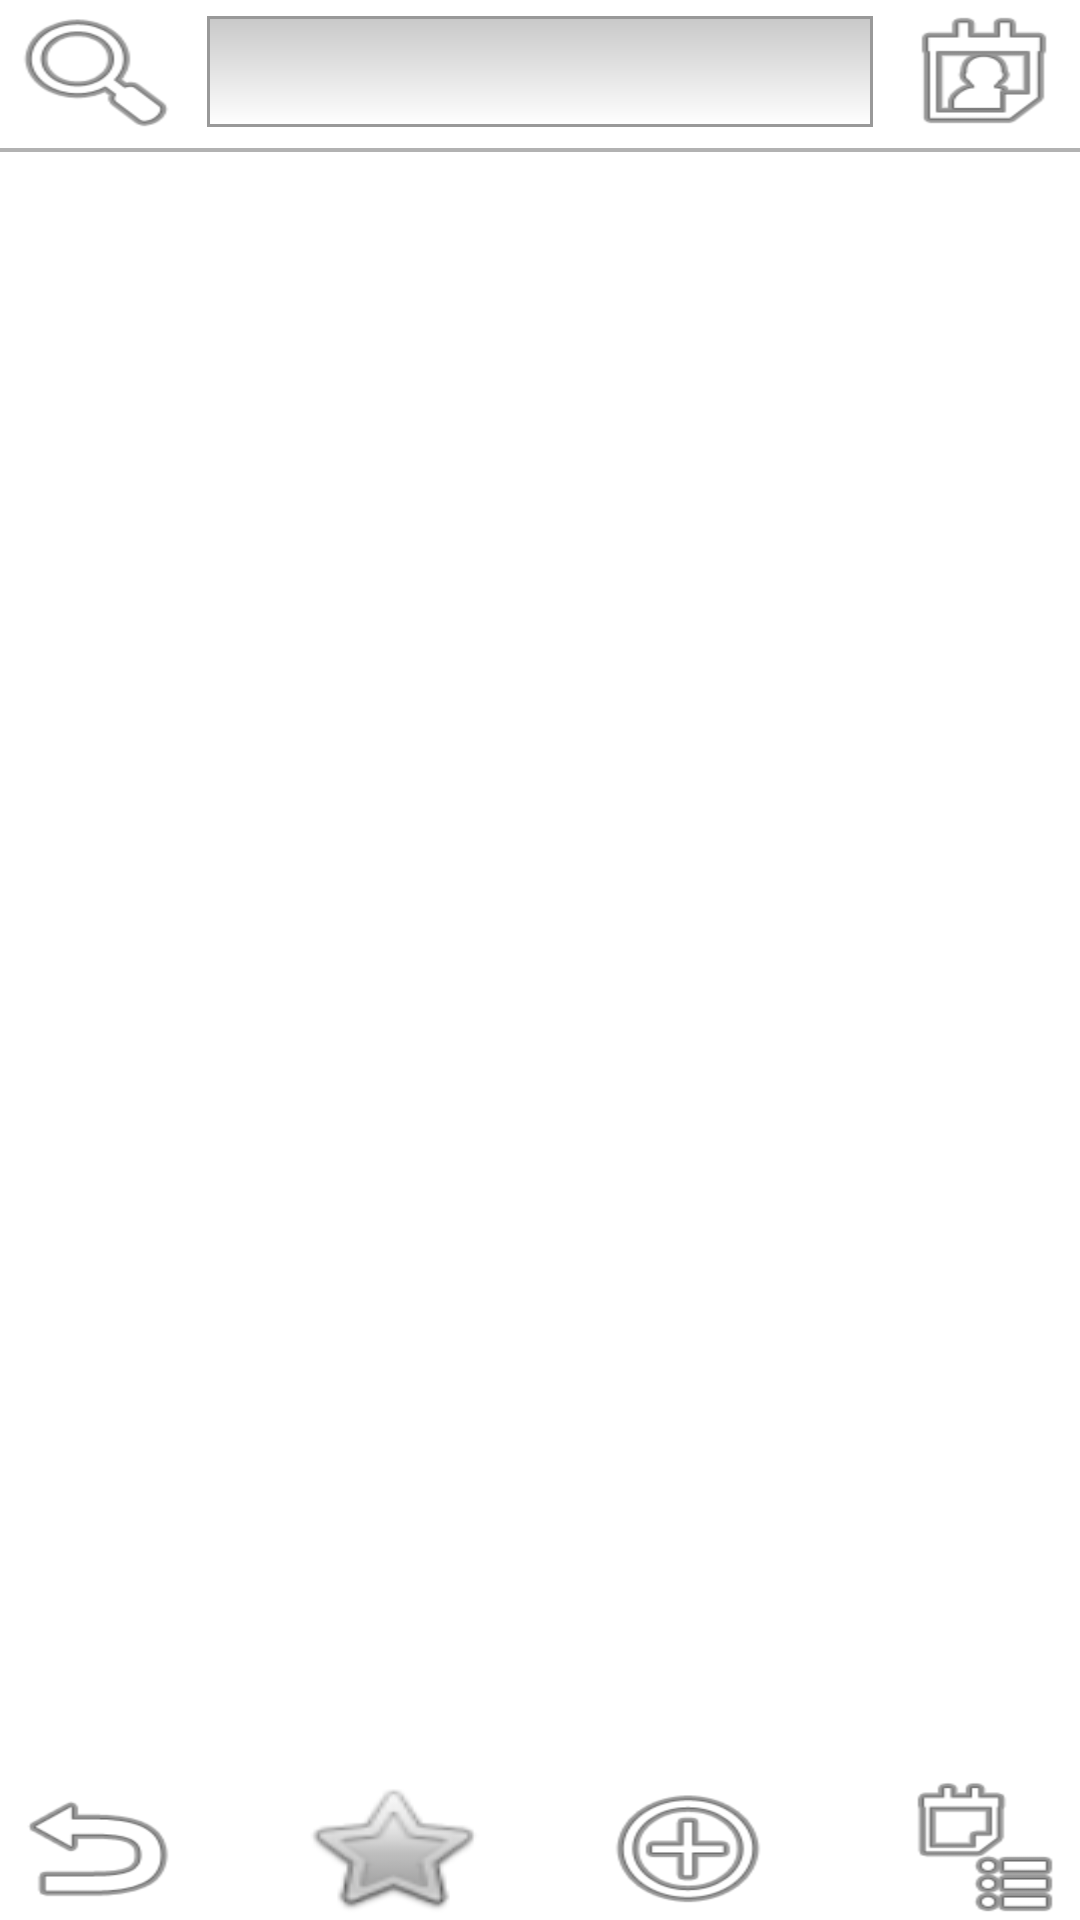

Point at icon controls on the screen. Image size 1080*1920, points as (x=x, y=y).
add: (x=688, y=1848)
agenda: (x=985, y=1847)
calendar: (x=984, y=70)
revert: (x=98, y=1849)
search: (x=96, y=72)
